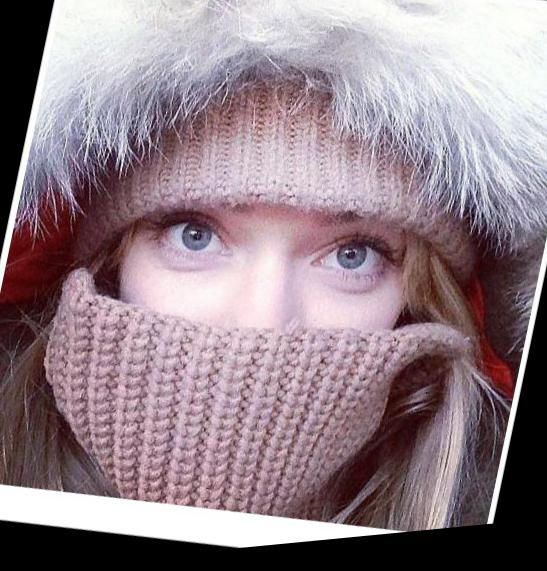WRONG: (81, 164, 427, 536)
